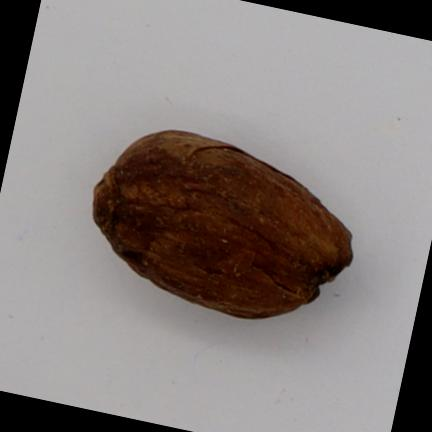husk: (95, 131, 353, 318)
